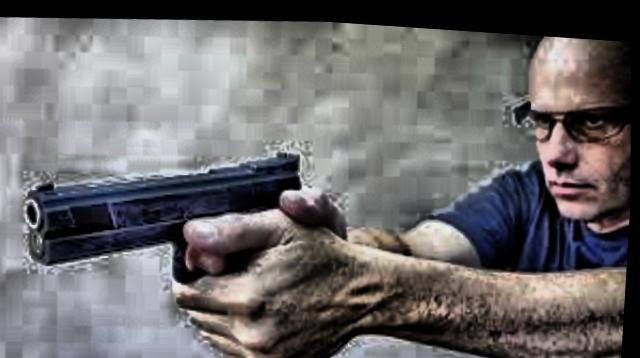pistol: (21, 133, 318, 303)
